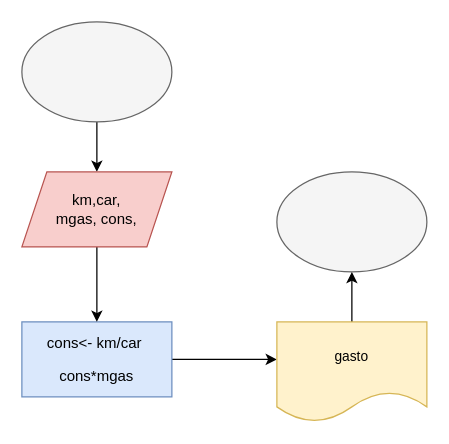
This 449x444 diagram has some shape labels left out. The shapes that lost their labels are listed below. From the top down, each one's centre as x and y in pixels, then its label:
At [96,71]: "inicio".
At [351,221]: "fim".
